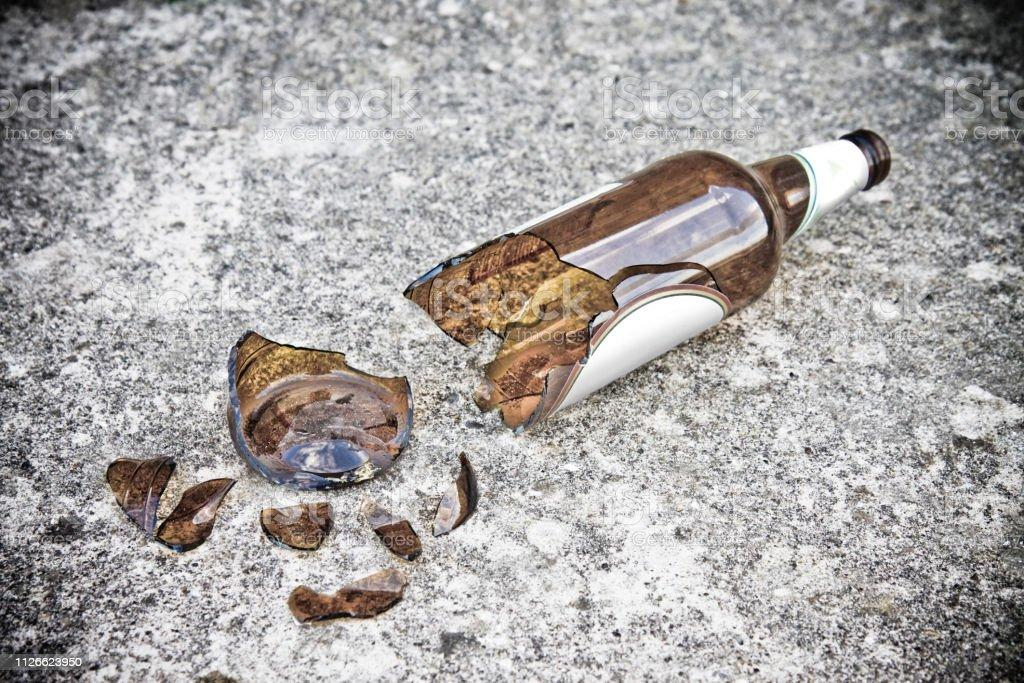Glass: (398, 117, 903, 432)
